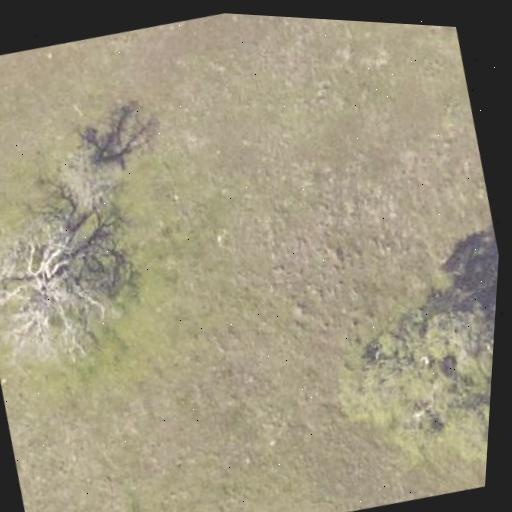tree-top: (318, 256, 498, 504), (0, 197, 142, 377), (39, 125, 149, 227)
